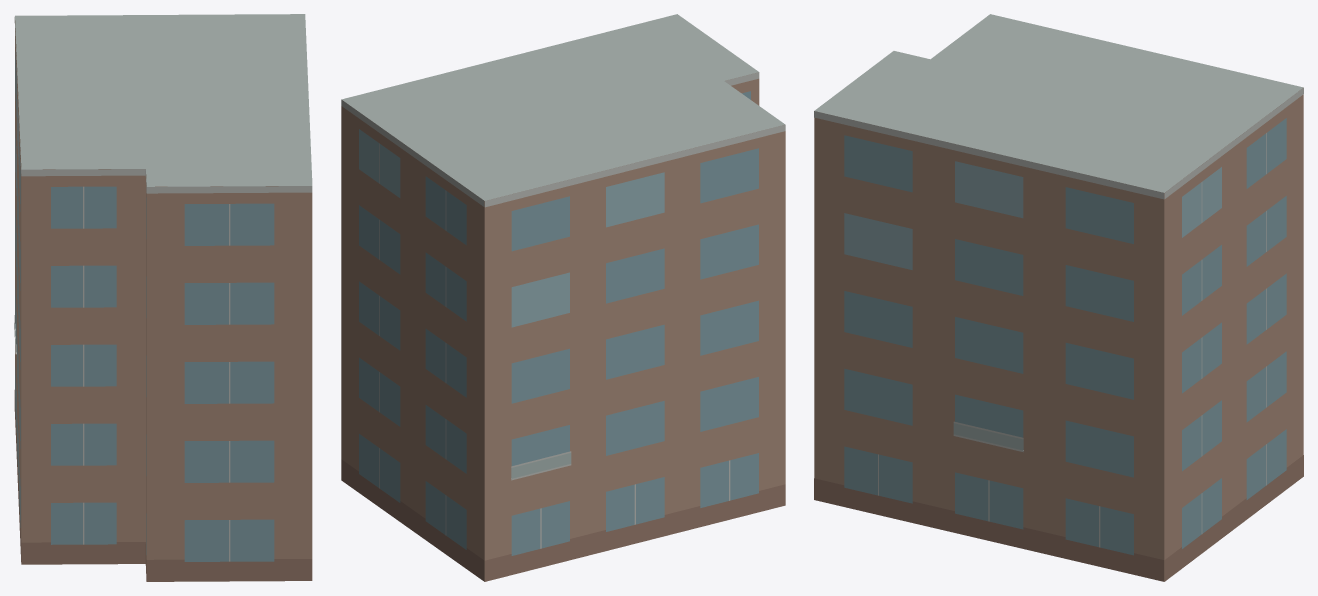
File: survey-upis-32991665.glb
3 renders of one model, left to right at view 1: azimuth 30°, elevation 25°; view 2: azimuth 150°, elevation 25°; view 3: azimuth 270°, elevation 25°, orthographic. The views are drawn at different scales.
Parts seen in each view (by area): view 1: survey-upis-32991665.tmp; view 2: survey-upis-32991665.tmp; view 3: survey-upis-32991665.tmp.
Part boxes in pixels (<box>): survey-upis-32991665.tmp: <box>14,14,312,581</box>; survey-upis-32991665.tmp: <box>341,14,785,581</box>; survey-upis-32991665.tmp: <box>814,14,1303,581</box>.
Size of the model in its own units: 14.16 by 14.35 by 16.38.
